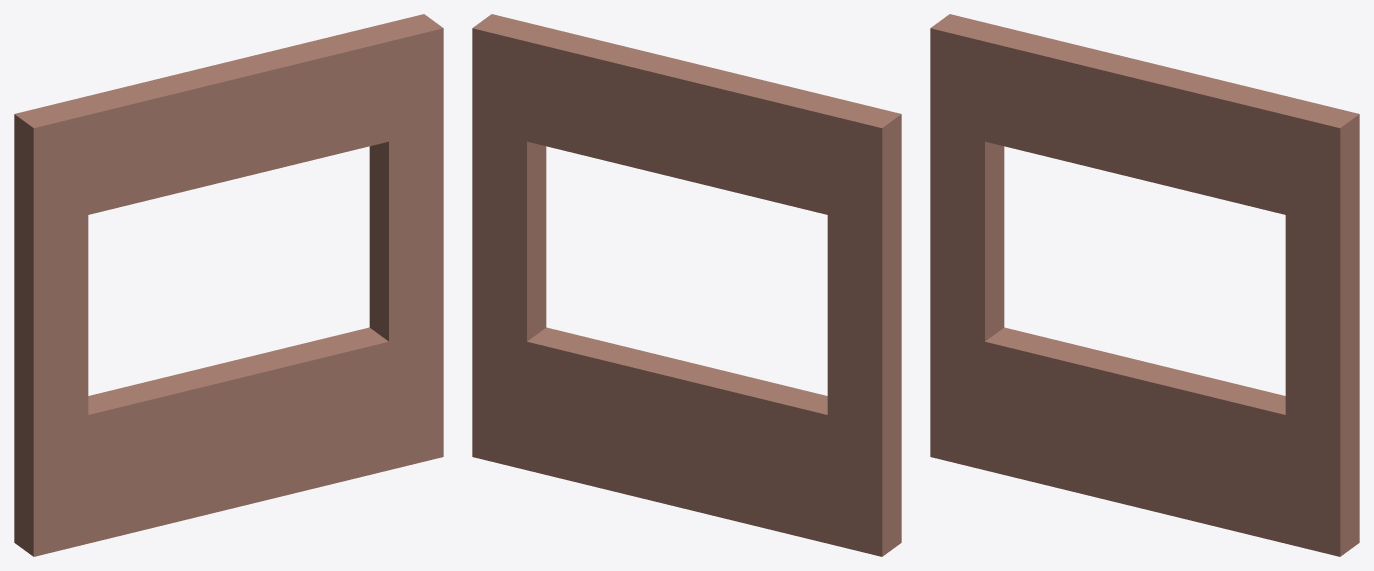
Rendered from iz2_bay_window_masonry.glb.
3 renders of one model, left to right at view 1: azimuth 30°, elevation 25°; view 2: azimuth 150°, elevation 25°; view 3: azimuth 330°, elevation 25°, orthographic.
Parts seen in each view (by area): view 1: body; view 2: body; view 3: body.
Boxes of the visible parts, x1,y1,x2,y2 form: body: (14,14,443,556); body: (472,14,901,556); body: (930,14,1359,556).
Bounding box in the file's own units: 3 × 3 × 0.2469.
